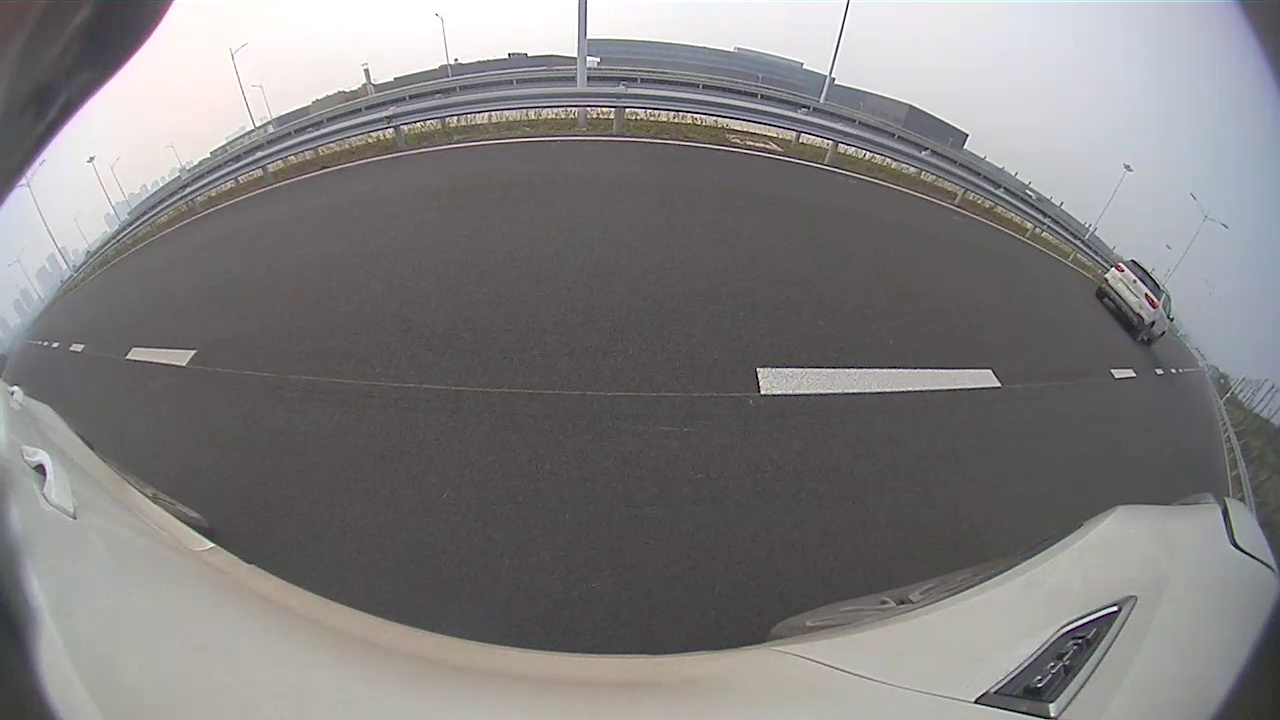car: (1096, 259, 1174, 342)
